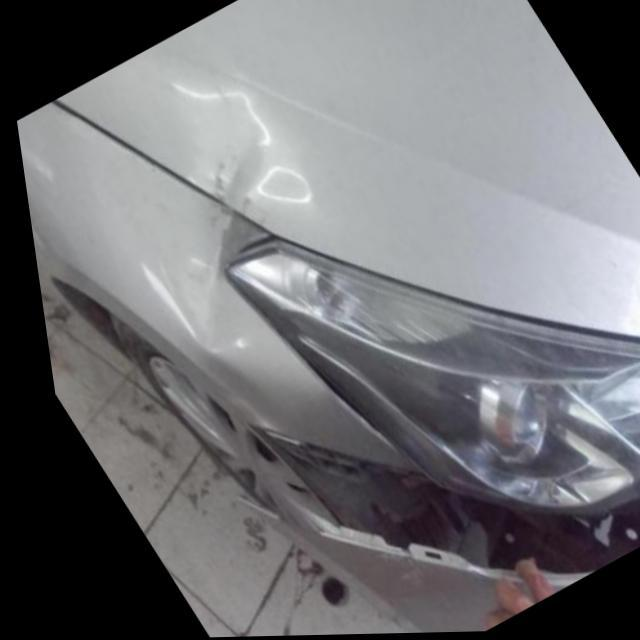dent: (156, 78, 306, 353)
dislocated part: (236, 417, 640, 579)
